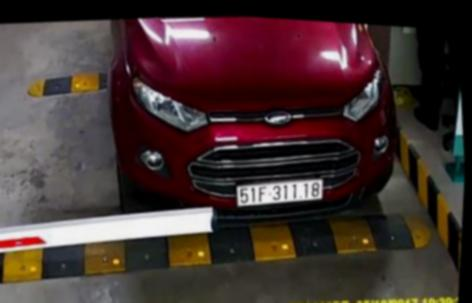License_Plate: (234, 170, 336, 220)
